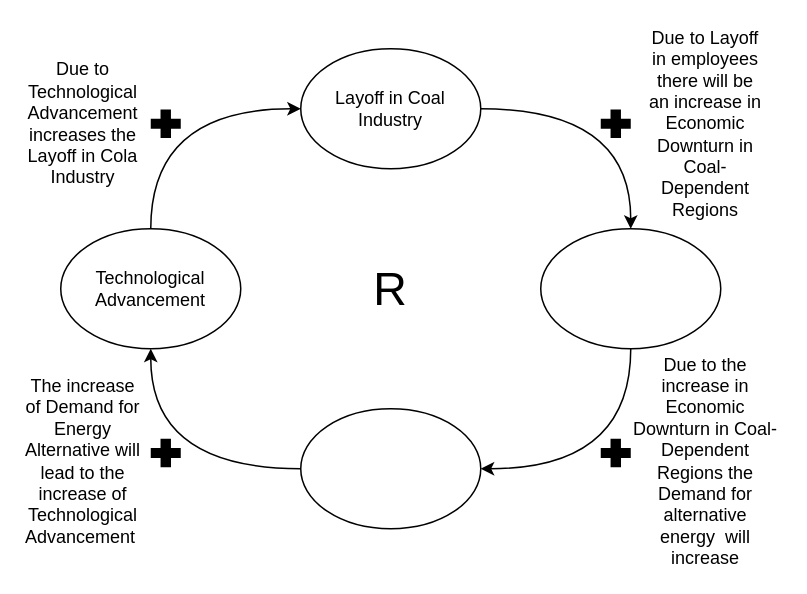
Image size: 807x594. Some labels were removed from this diagram. The shapes that lost their labels are listed below. From the top down, each one's box as (x1, y1, x2, y2) in pixels, then its label:
(539, 227, 721, 349): Economic Downturn in Coal-Dependent Regions
(299, 407, 481, 529): Demand for Energy Alternative
